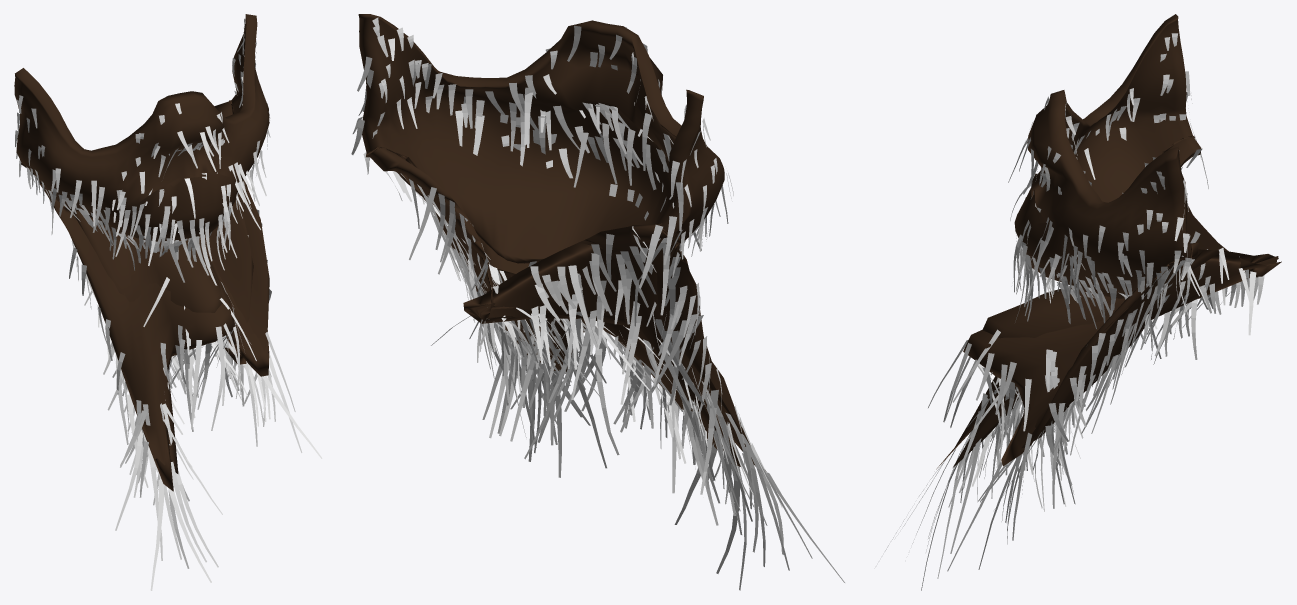
Rendered from beard-huscarl-forked.glb.
3 renders of one model, left to right at view 1: azimuth 30°, elevation 25°; view 2: azimuth 150°, elevation 25°; view 3: azimuth 270°, elevation 25°, orthographic. The views are drawn at different scales.
Visible parts, largest first — view 1: beard-huscarl-forked_1, beard__strands; view 2: beard-huscarl-forked_1, beard__strands; view 3: beard-huscarl-forked_1, beard__strands.
Boxes of the visible parts, left/top/right/bottom form: beard-huscarl-forked_1: left=14, top=14, right=269, bottom=491; beard__strands: left=15, top=18, right=322, bottom=590; beard-huscarl-forked_1: left=358, top=14, right=766, bottom=471; beard__strands: left=351, top=17, right=844, bottom=590; beard-huscarl-forked_1: left=936, top=14, right=1281, bottom=469; beard__strands: left=885, top=33, right=1264, bottom=590.
Bounding box in the file's own units: 0.1654 × 0.2871 × 0.202.
